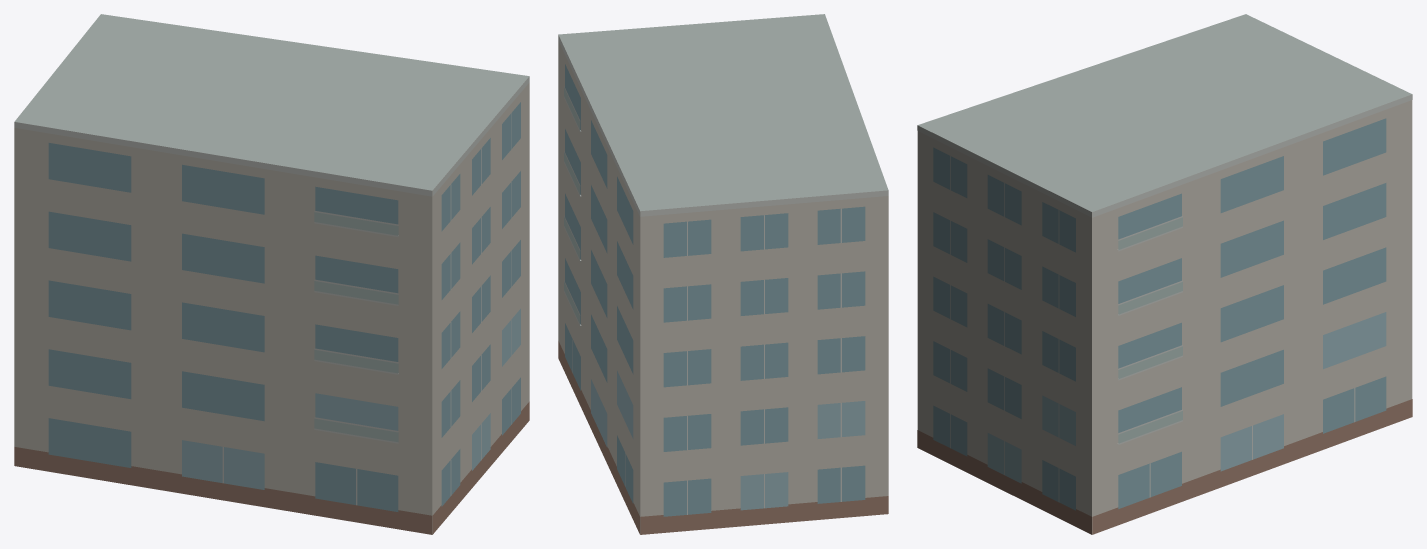
Rendered from survey-upis-32695190.glb.
3 views of the same model, side by side, from view 1: azimuth 30°, elevation 25°; view 2: azimuth 150°, elevation 25°; view 3: azimuth 270°, elevation 25° (orthographic). The views are drawn at different scales.
Visible parts, largest first — view 1: survey-upis-32695190.tmp; view 2: survey-upis-32695190.tmp; view 3: survey-upis-32695190.tmp.
Part boxes in pixels (x1=…): survey-upis-32695190.tmp: x1=14, y1=14, x2=529, y2=534; survey-upis-32695190.tmp: x1=558, y1=14, x2=888, y2=534; survey-upis-32695190.tmp: x1=917, y1=14, x2=1412, y2=534.
Bounding box in the file's own units: 18.45 × 14 × 19.47.
